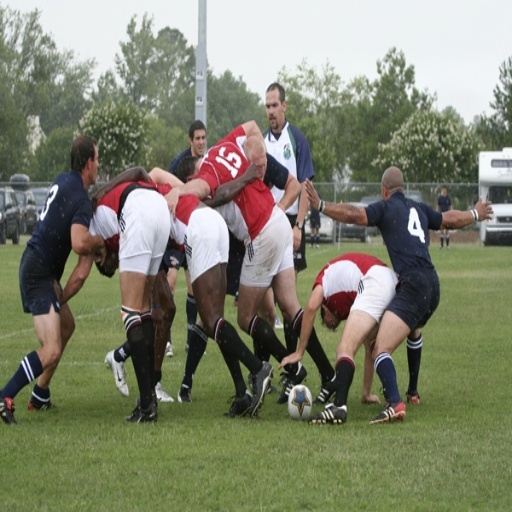hand: (162, 183, 182, 225), (149, 305, 169, 344), (471, 194, 496, 222), (240, 156, 264, 185), (276, 352, 302, 373), (90, 238, 108, 268), (302, 174, 318, 204), (52, 279, 64, 304), (292, 224, 302, 253)
